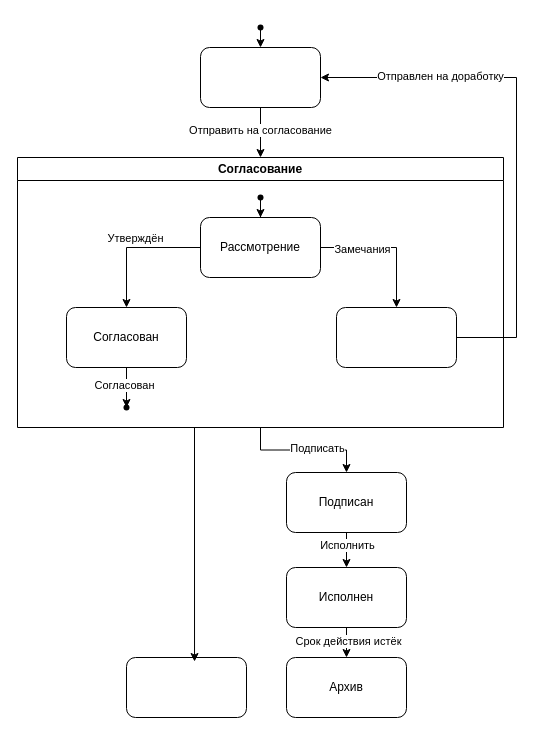
This 542x735 diagram has some shape labels left out. The centre of each missing label's shape, as x and y in pixels:
"Отменён" belongs at pixel 186 687.
"Создана" belongs at pixel 260 77.
"Требует доработки" belongs at pixel 396 337.
